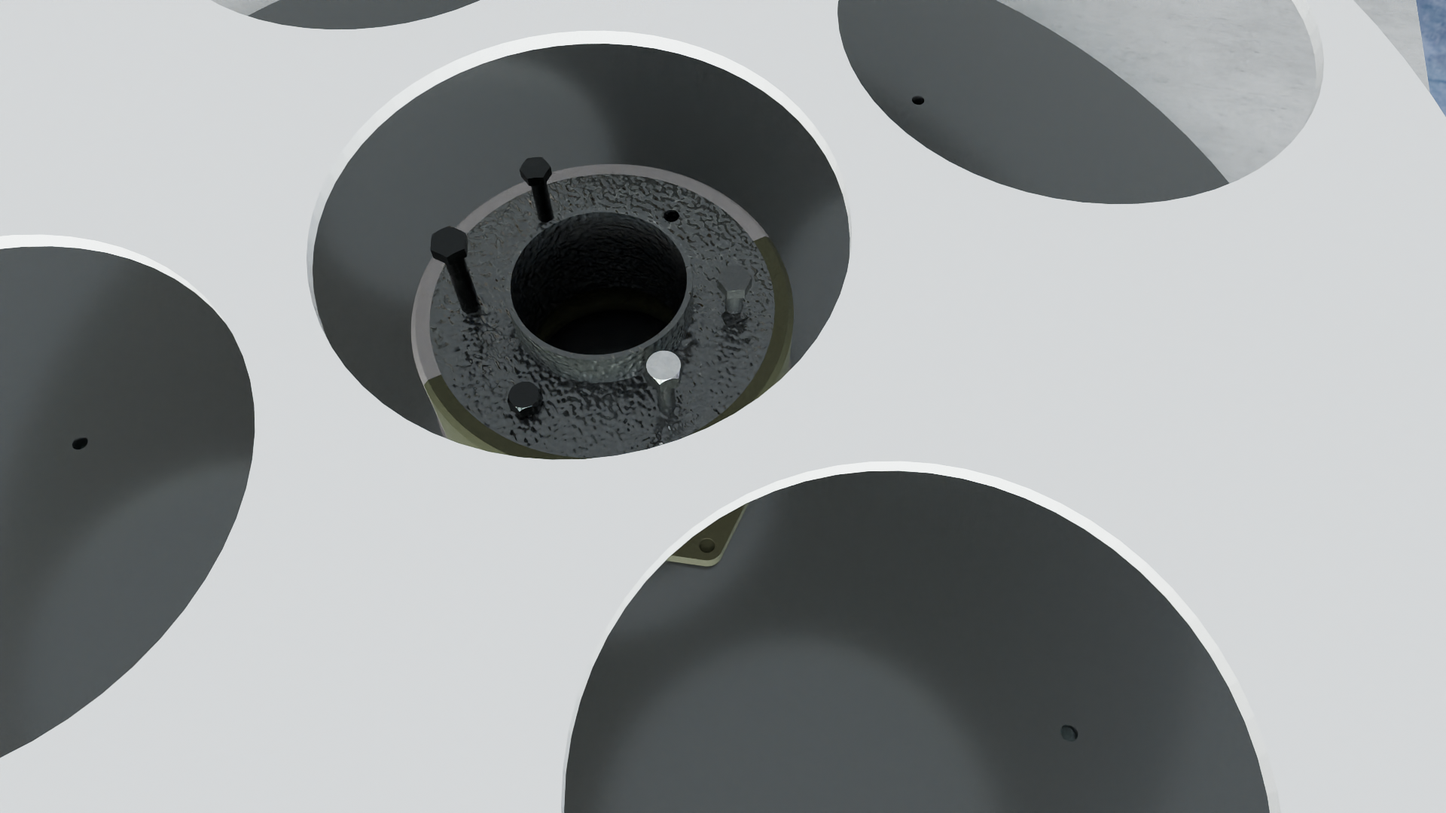bolt: (645, 351, 682, 384), (430, 226, 465, 257), (508, 382, 541, 411), (717, 265, 752, 292), (520, 157, 551, 179)
